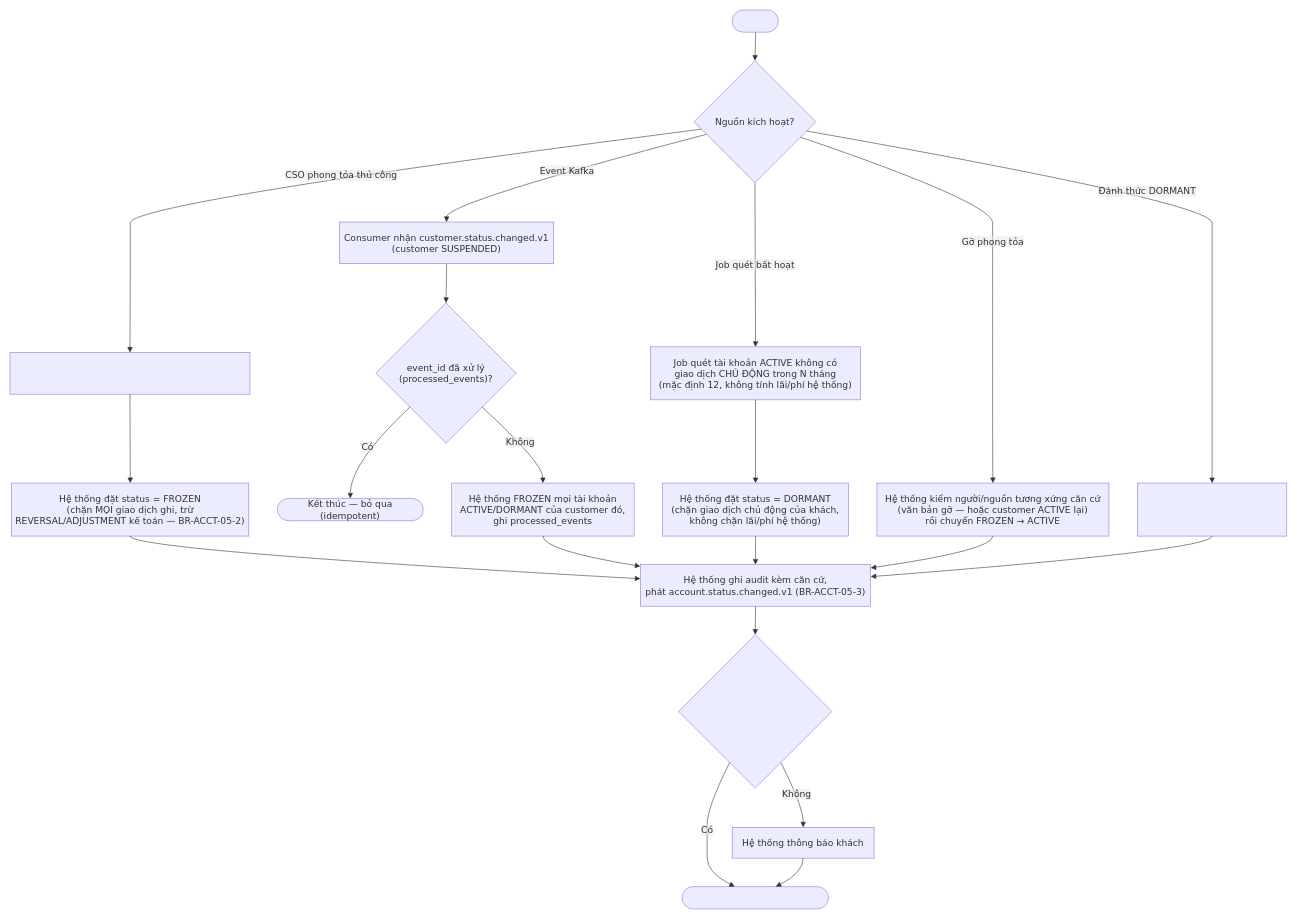
Image size: 1297x919. Some labels were removed from this diagram. Here are the shapes that lost their labels. From the top down, the centre of each, then its label:
At [755,20]: "Bắt đầu".
At [129,373]: "CSO chọn tài khoản, nhập căn cứ (số văn bản lệnh cơ quan / mã cảnh báo gian lận)".
At [1212,509]: "Khách giao dịch tại quầy / xác minh online — hệ thống chuyển DORMANT → ACTIVE".
At [755,711]: "Lệnh cơ quan yêu cầu không báo khách?".
At [754,897]: "Kết thúc — trạng thái đã chuyển".
